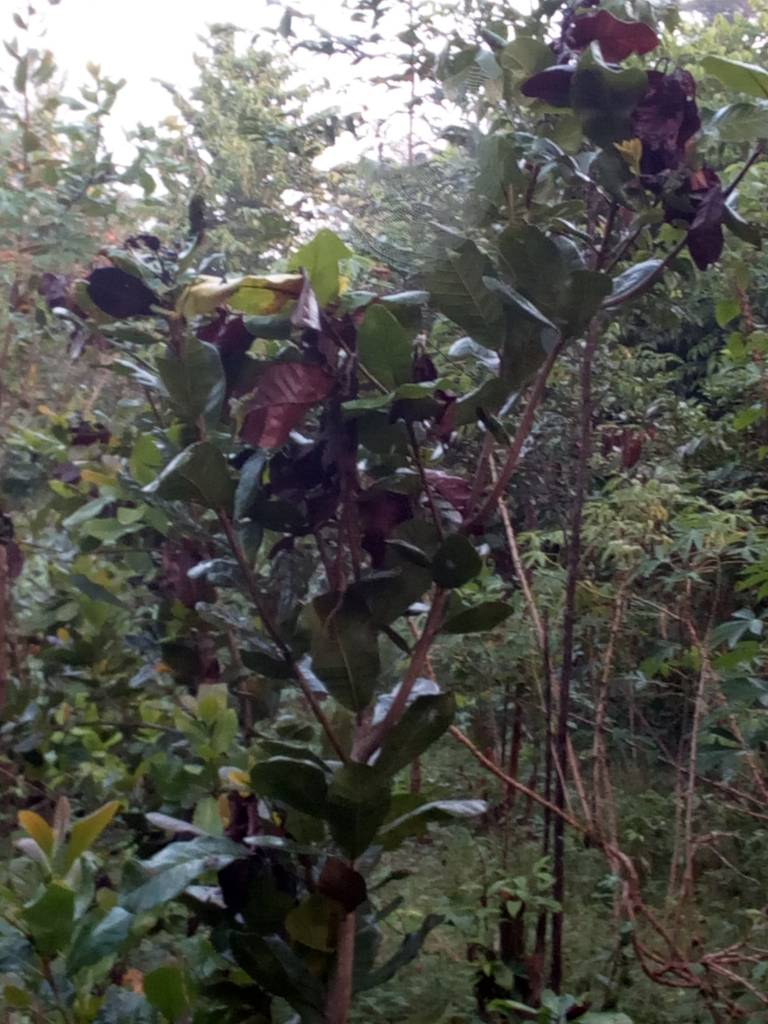Die-black: (208, 350, 345, 467)
